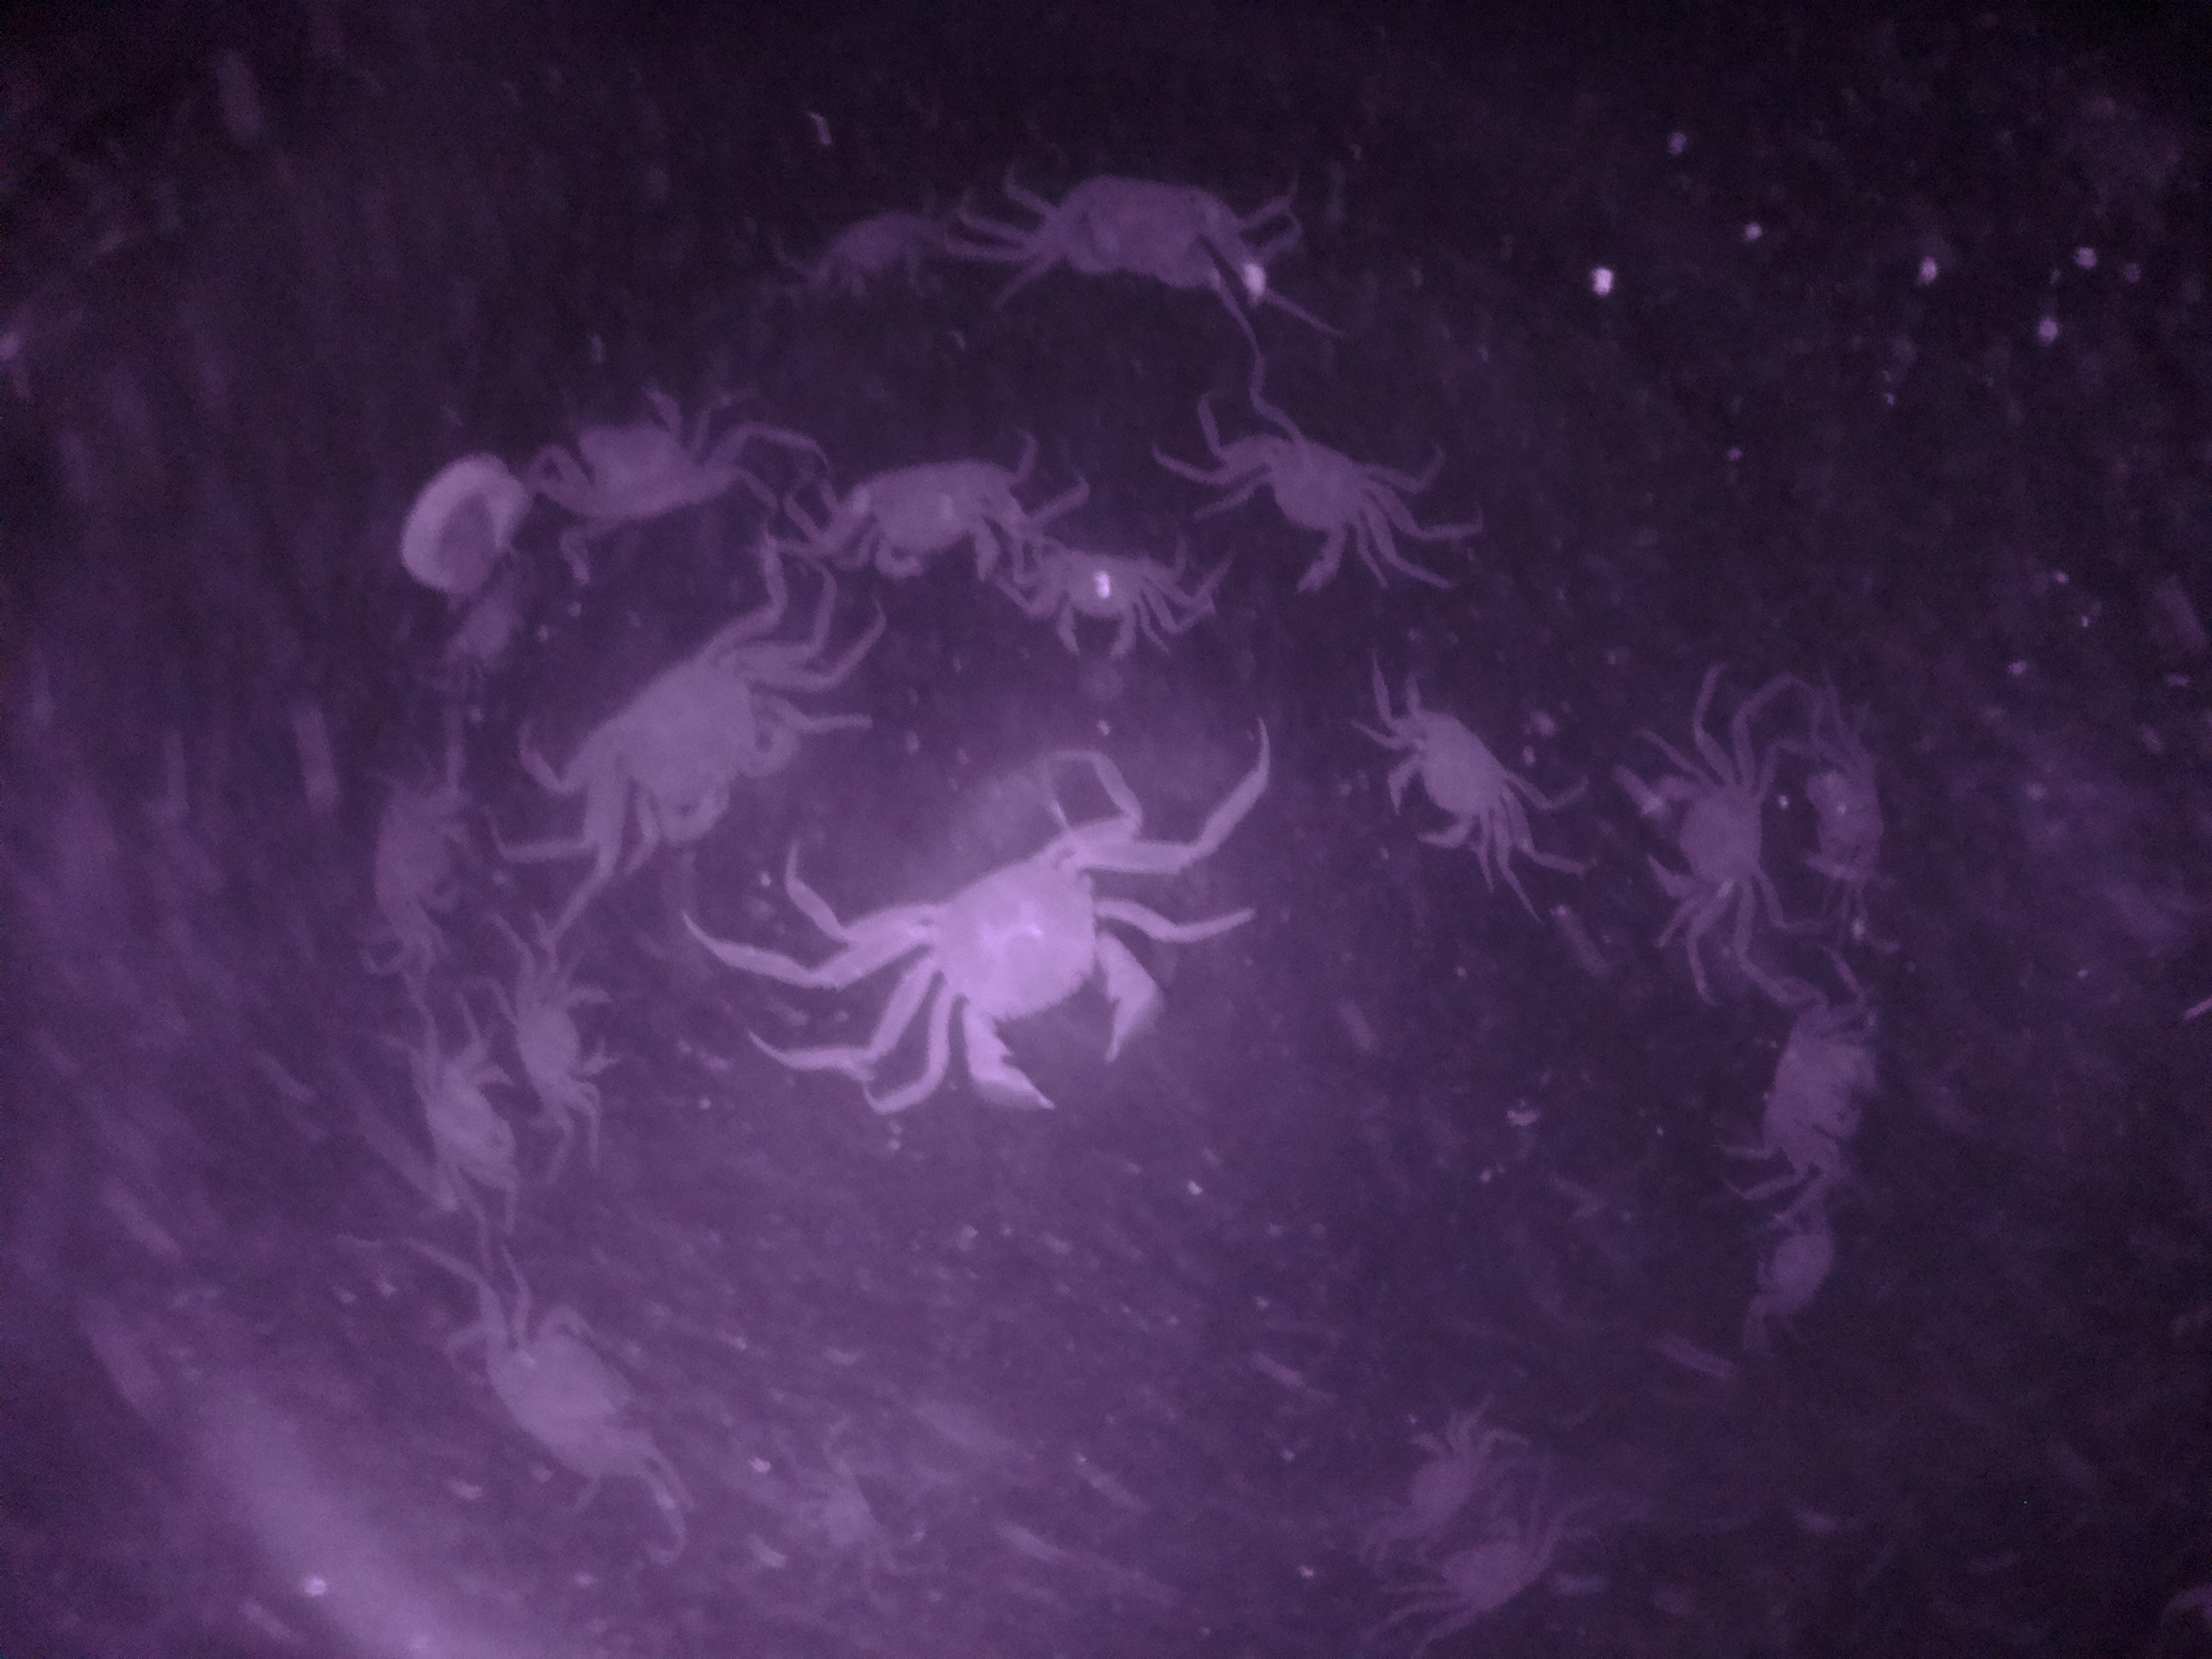Crab: (876, 819, 1176, 1126), (564, 617, 815, 870), (1003, 134, 1275, 310), (1721, 979, 1895, 1199), (1211, 406, 1409, 591), (829, 437, 1033, 603), (1623, 744, 1789, 922), (1372, 687, 1533, 870), (1026, 526, 1191, 664), (488, 960, 643, 1103)
